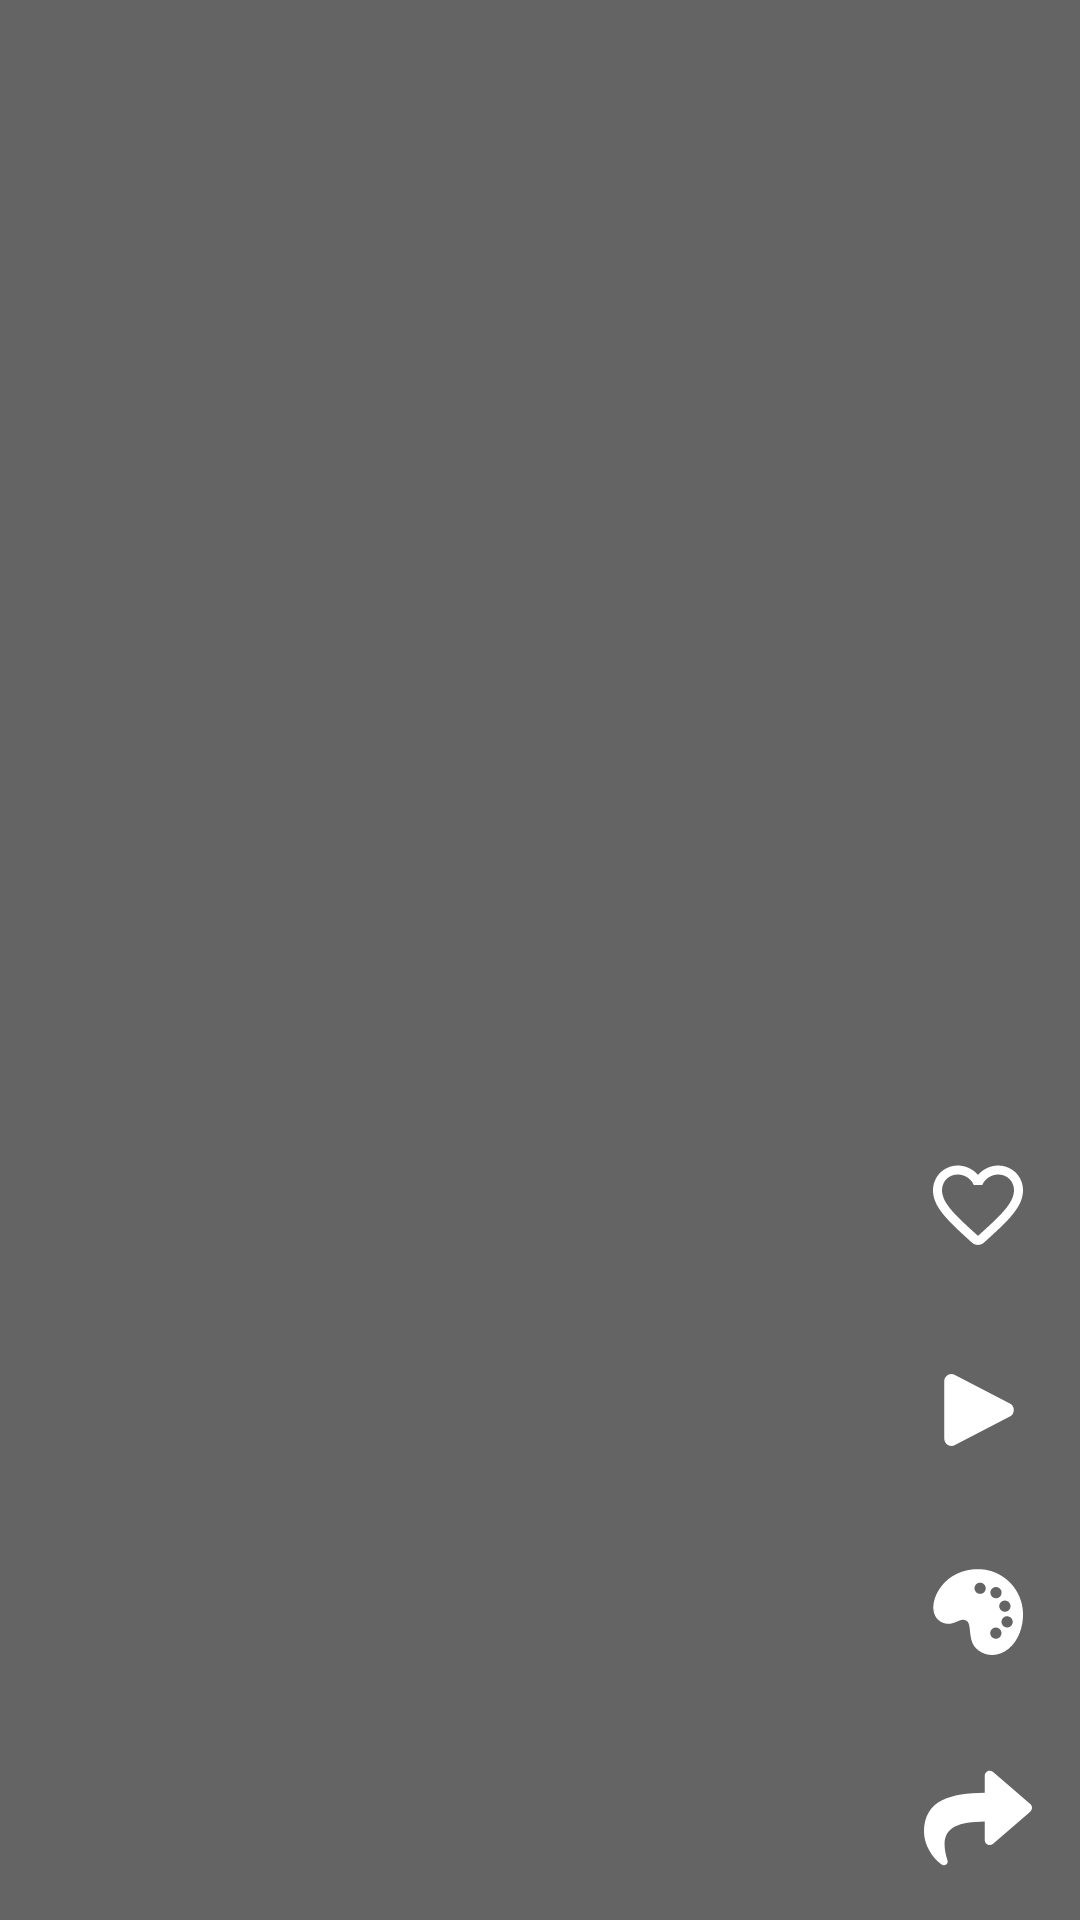

Named icons in this screenshot (1080*1920) and their bounding boxes, bbox(x1, y1, x2, y2):
favorite border: bbox(933, 1165, 1023, 1245)
play: bbox(944, 1374, 1014, 1446)
share: bbox(924, 1770, 1032, 1866)
